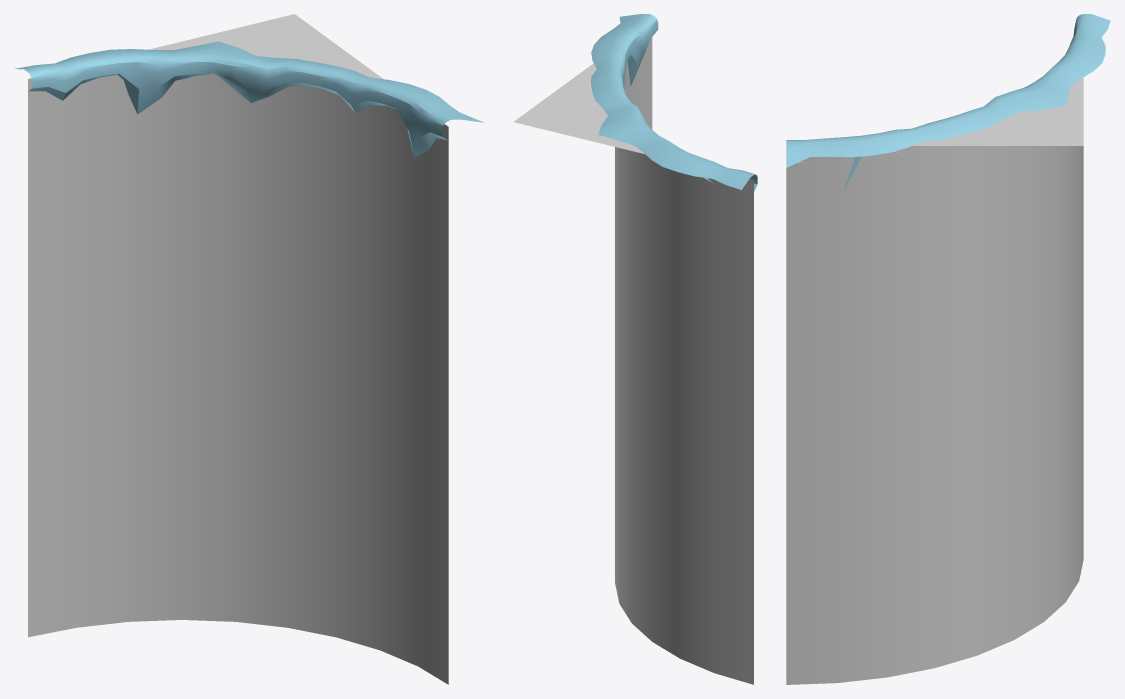
The model's file is Wall_Curve_Inside_Snow.fbx.
3 renders of one model, left to right at view 1: azimuth 30°, elevation 25°; view 2: azimuth 150°, elevation 25°; view 3: azimuth 270°, elevation 25°, orthographic. The views are drawn at different scales.
Visible parts, largest first — view 1: Wall_Curve_Inside_Snow; view 2: Wall_Curve_Inside_Snow; view 3: Wall_Curve_Inside_Snow.
Boxes of the visible parts, left/top/right/bottom form: Wall_Curve_Inside_Snow: left=14, top=14, right=483, bottom=684; Wall_Curve_Inside_Snow: left=514, top=14, right=757, bottom=684; Wall_Curve_Inside_Snow: left=786, top=14, right=1110, bottom=684.
Size of the model in its own units: 378 by 674 by 363.
